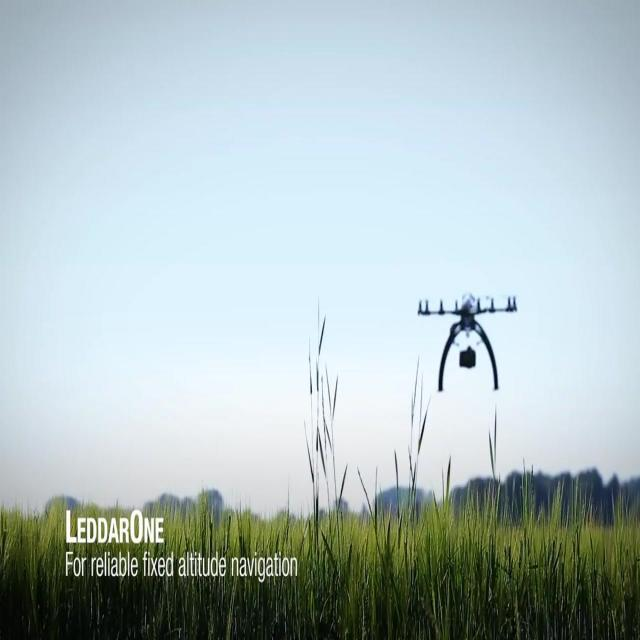UAV: (415, 294, 518, 395)
